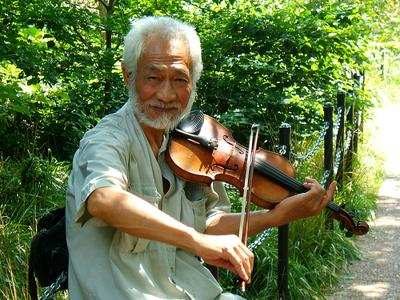person: (65, 18, 338, 300)
